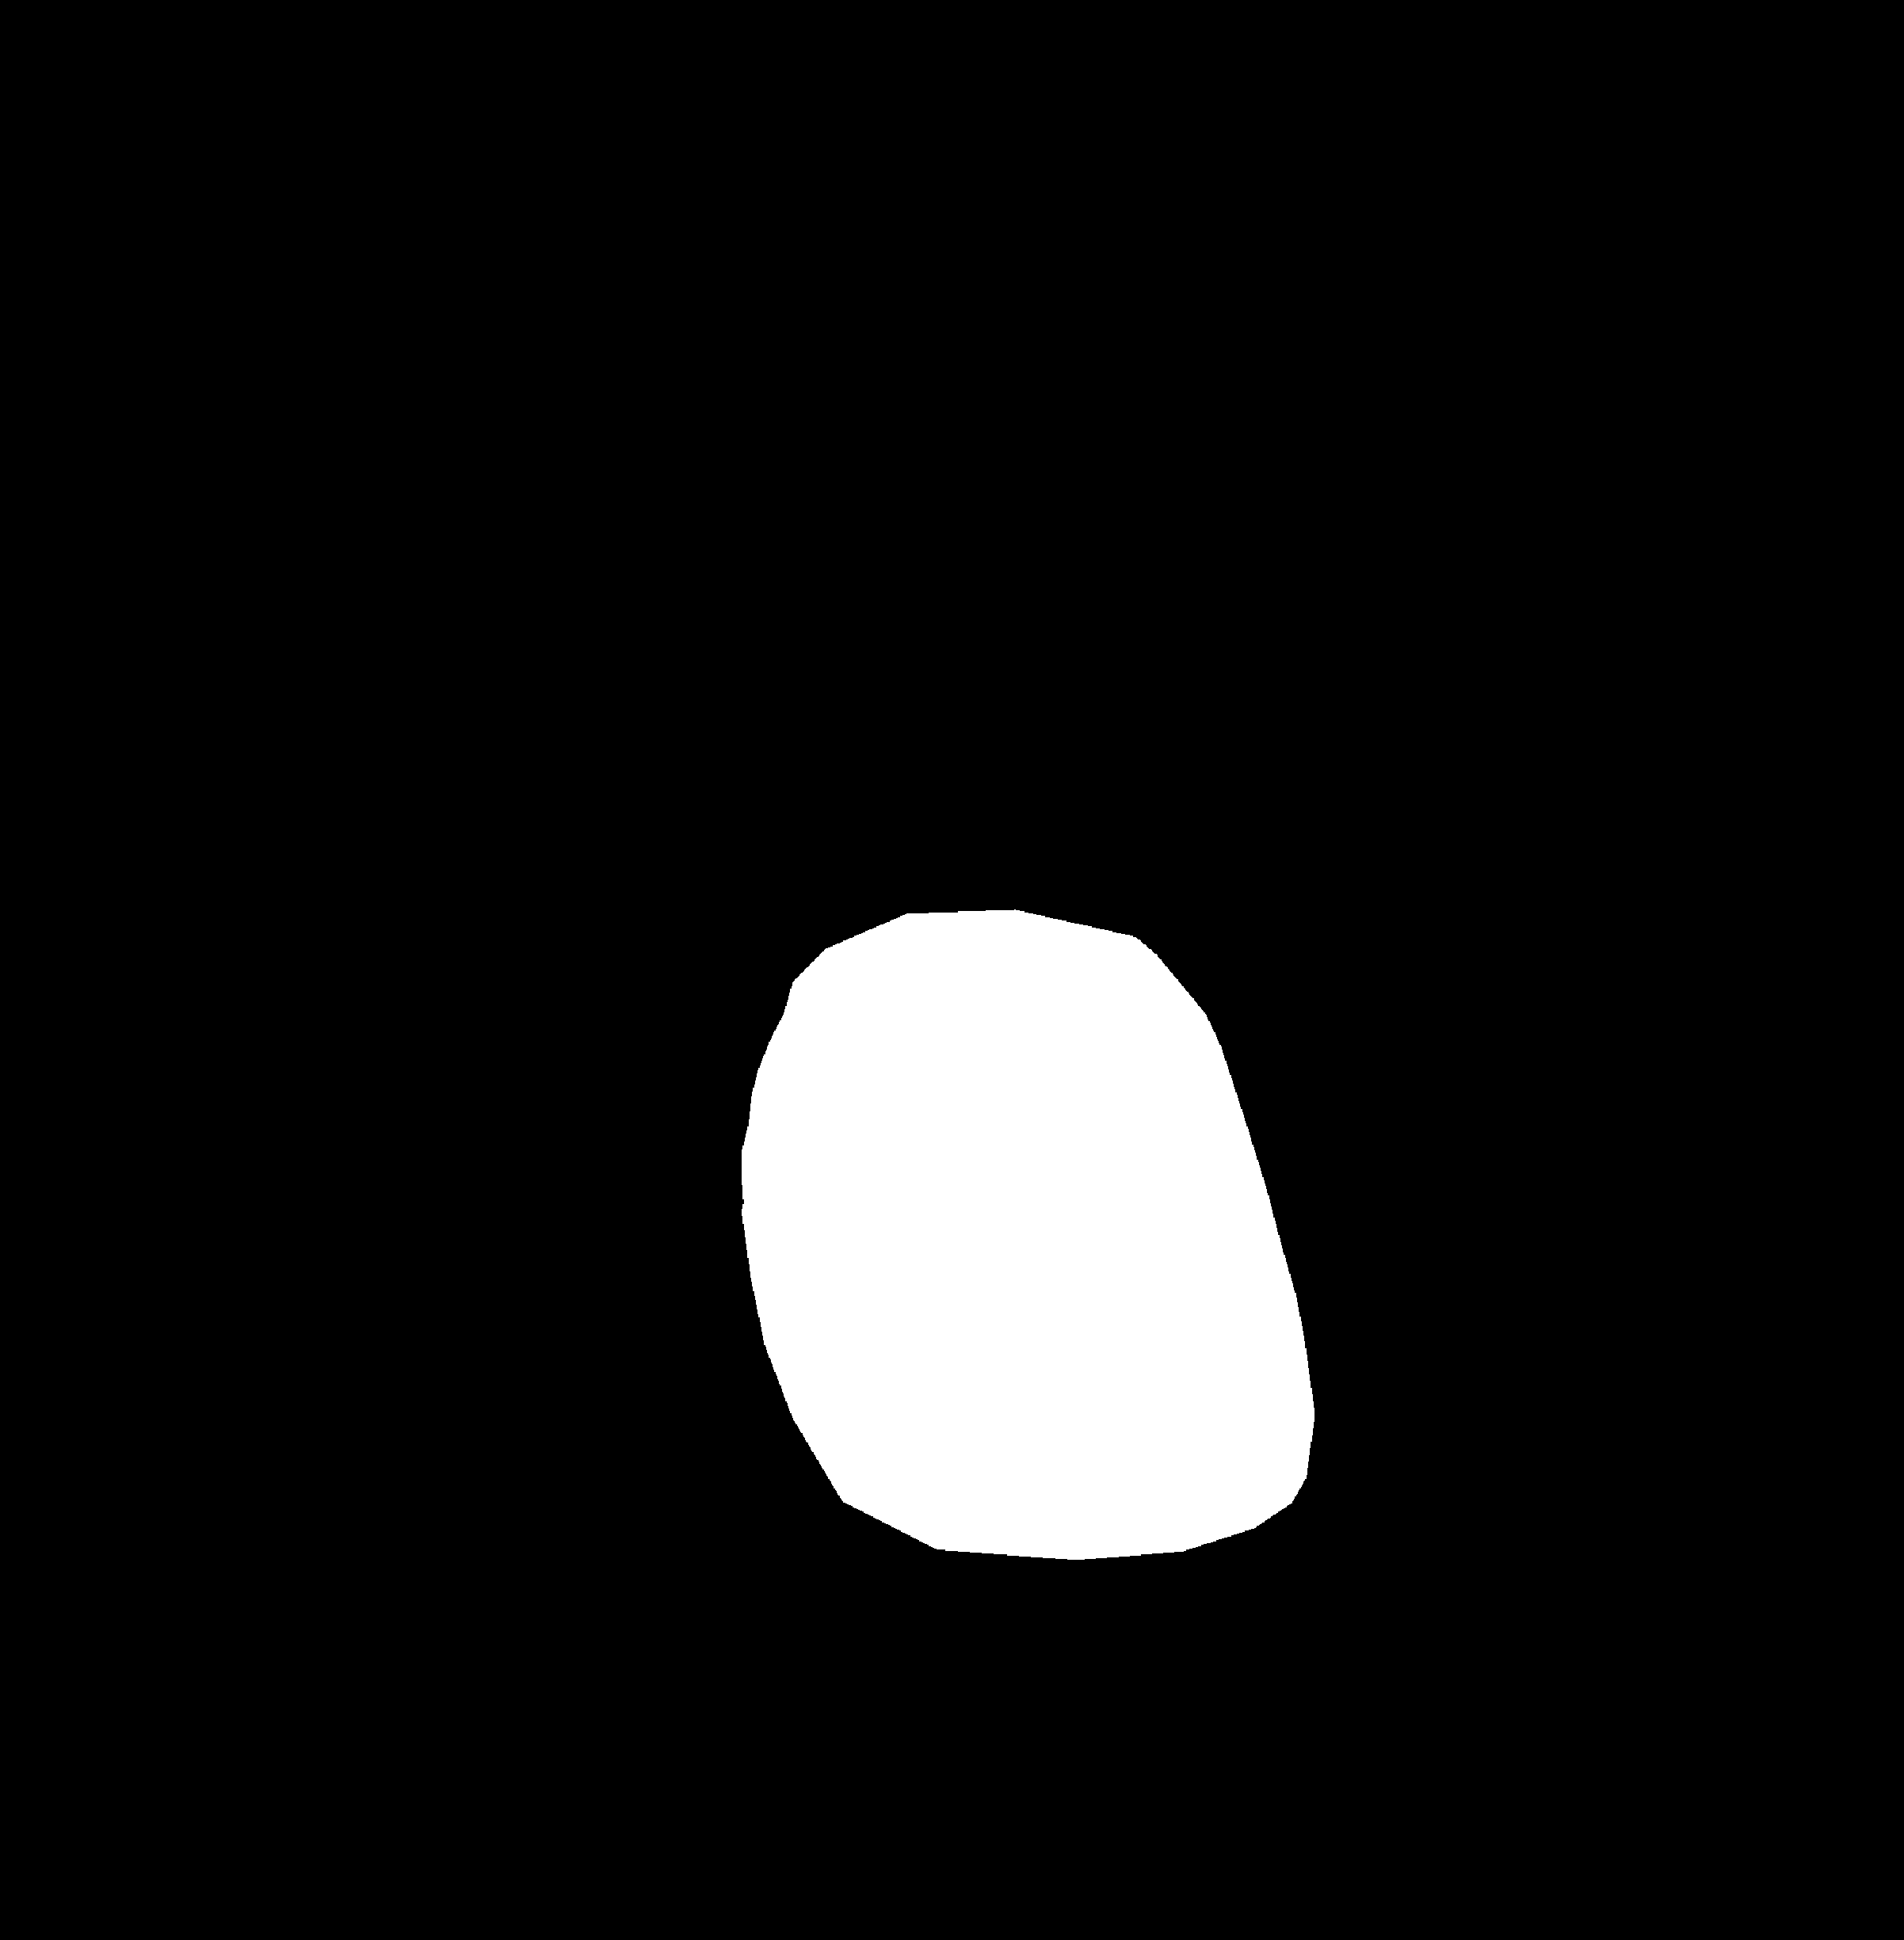heart: (746, 1009, 1313, 1607)
left_lung: (244, 153, 861, 1682)
right_lung: (989, 141, 1676, 1661)
